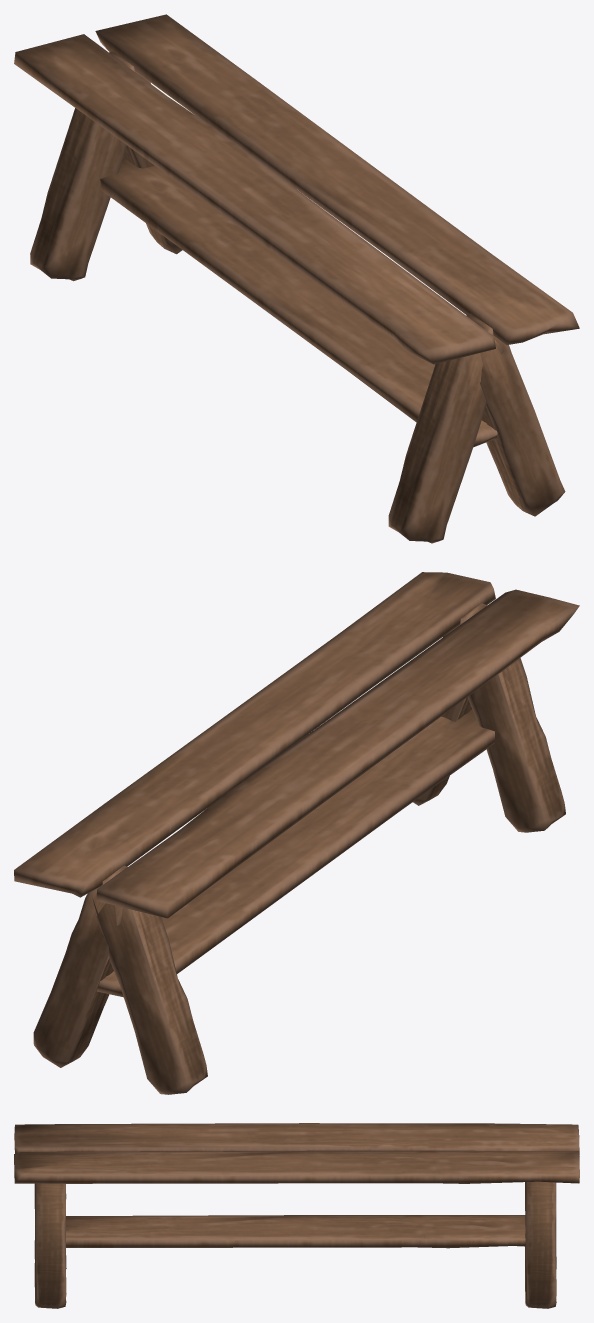
File: SM_bench_01.fbx
The picture shows the model from 3 angles, top to bottom: view 1: azimuth 30°, elevation 25°; view 2: azimuth 150°, elevation 25°; view 3: azimuth 270°, elevation 25°; orthographic projection. The views are drawn at different scales.
Visible parts, largest first — view 1: bench_01; view 2: bench_01; view 3: bench_01.
Boxes of the visible parts, x1=… form: bench_01: x1=14, y1=14, x2=579, y2=543; bench_01: x1=14, y1=572, x2=579, y2=1094; bench_01: x1=14, y1=1123, x2=579, y2=1308.
Size of the model in its own units: 48.66 by 62.44 by 216.
